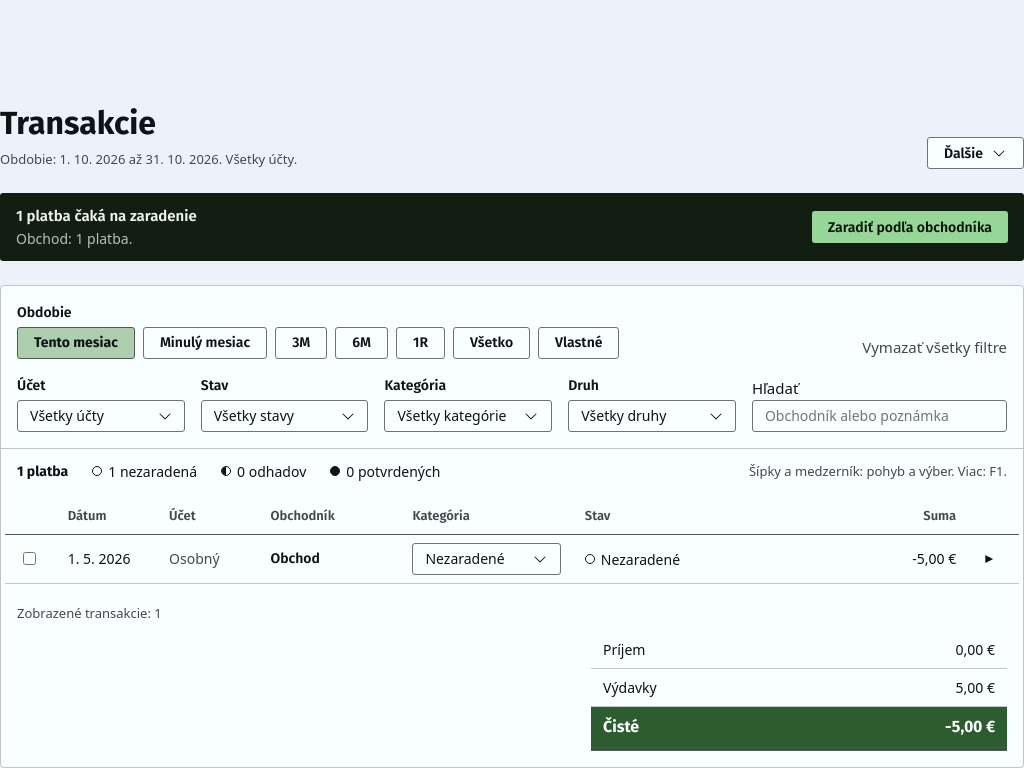
creates a subcategory from the row picker, asks for the parent, and assigns it to that row
This screenshot has width=1024, height=768.
(page scrolled)
Expected: the text "Obchod" is shown, [270, 550, 320, 567]
Click the dropdown named "Kategória transakcie 5": (487, 559) [412, 543, 561, 575]
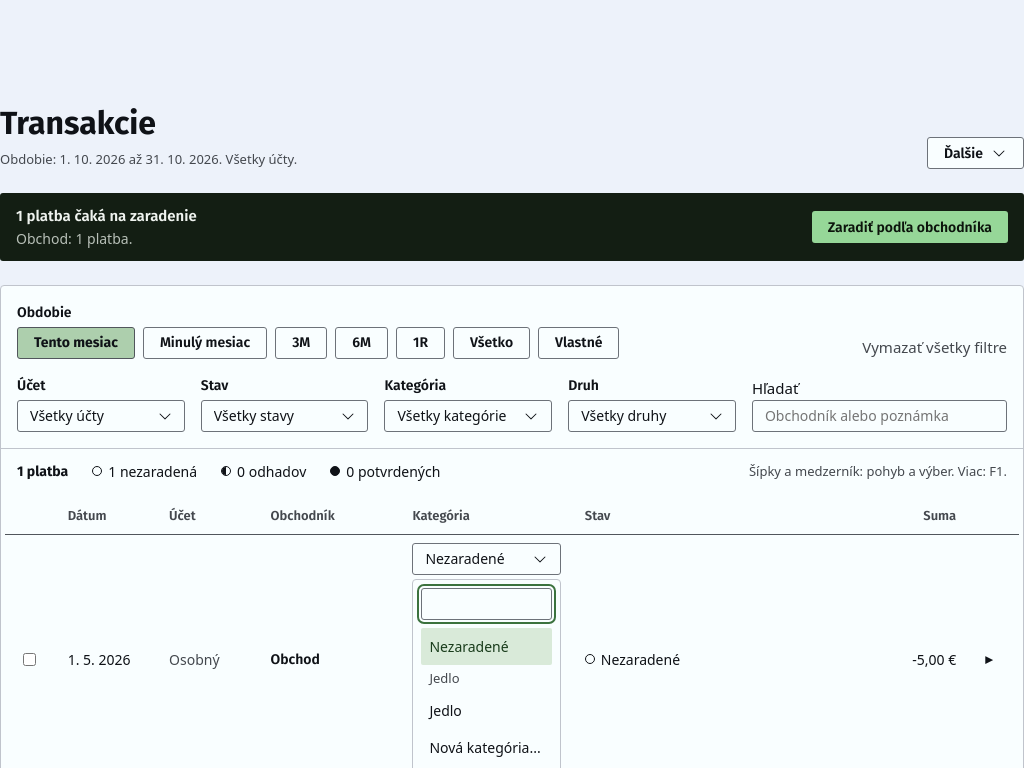
Click the option "Nová kategória...": (487, 748) [421, 729, 552, 766]
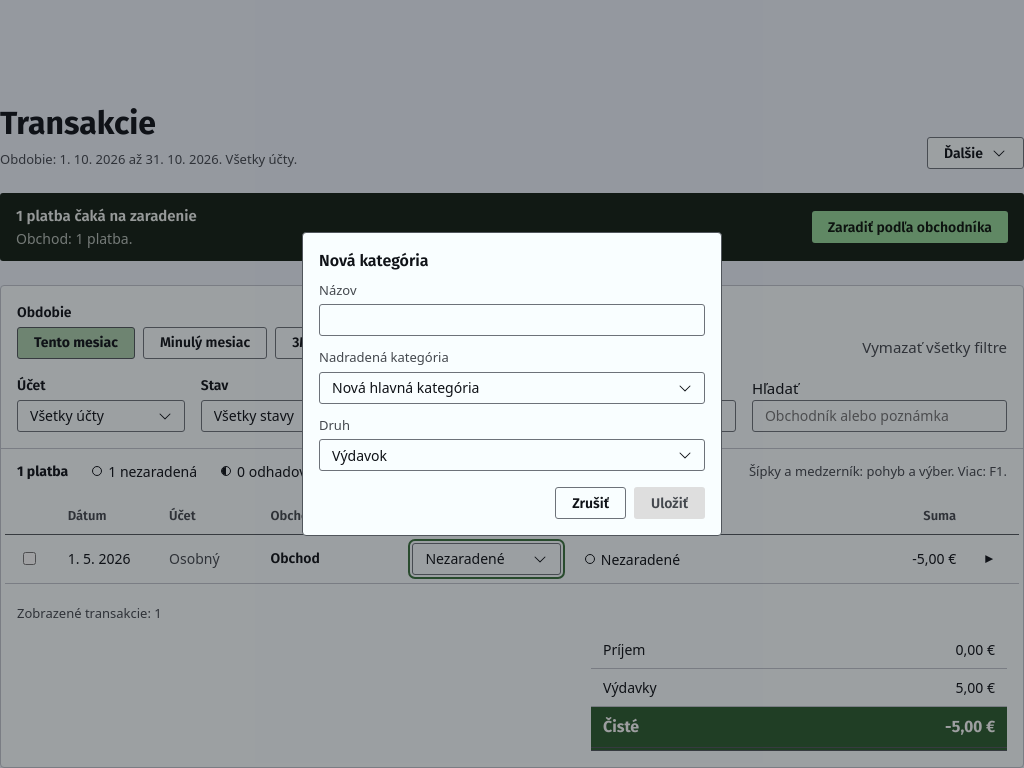
Select "Jedlo" in the dropdown labelled "Nadradená kategória": (512, 388) [319, 372, 705, 404]
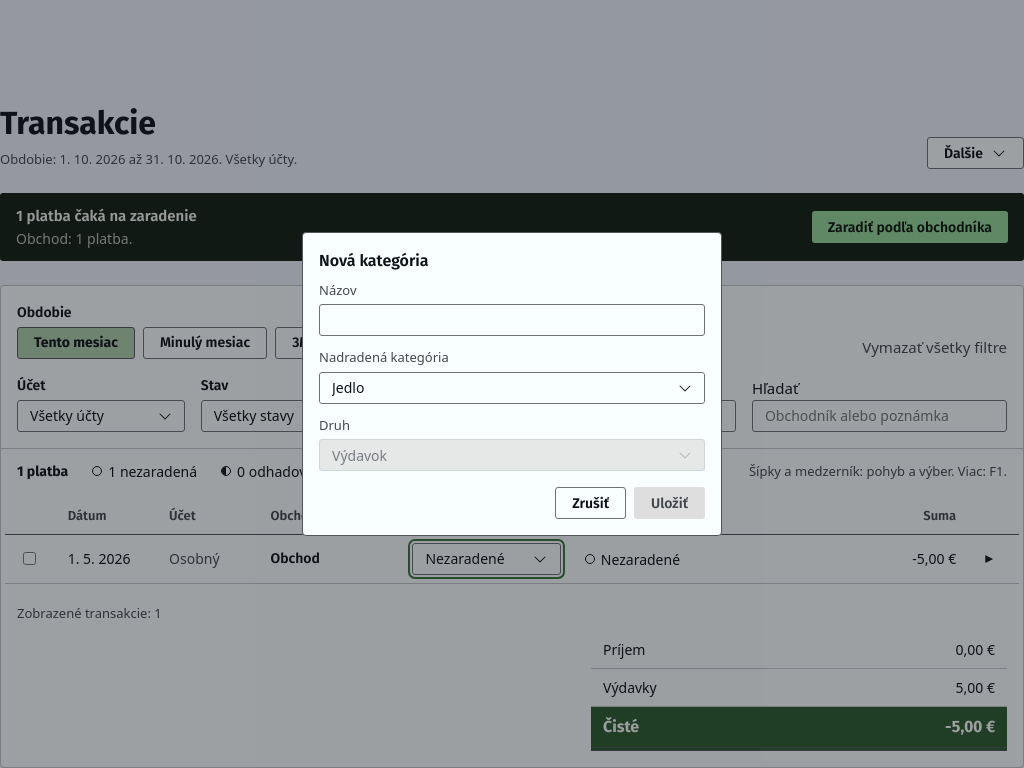
In the field named "Názov kategórie": (512, 320) [319, 304, 705, 336], type "Potraviny"
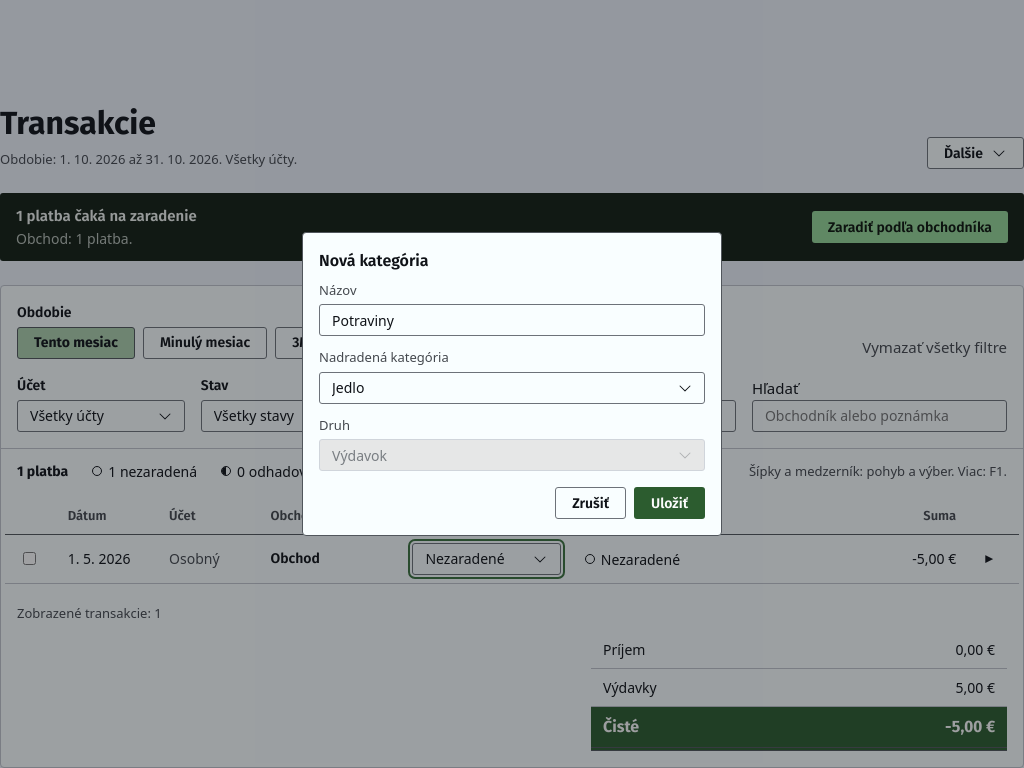
Click the button "Uložiť": (670, 503) [634, 487, 705, 519]
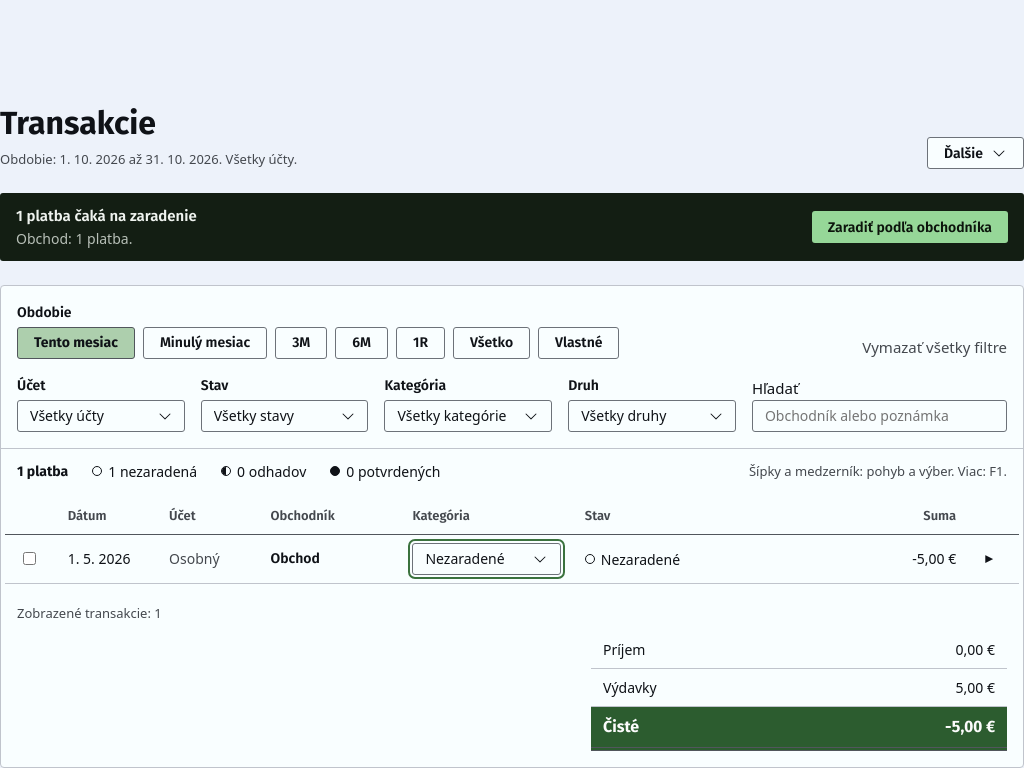
Expected: the dialog is gone
